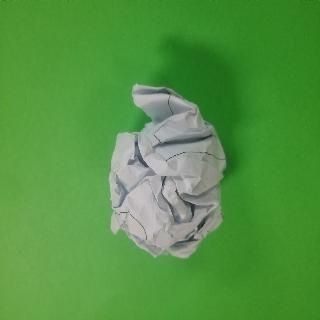8/可回收垃圾/纸: (107, 83, 228, 259)
